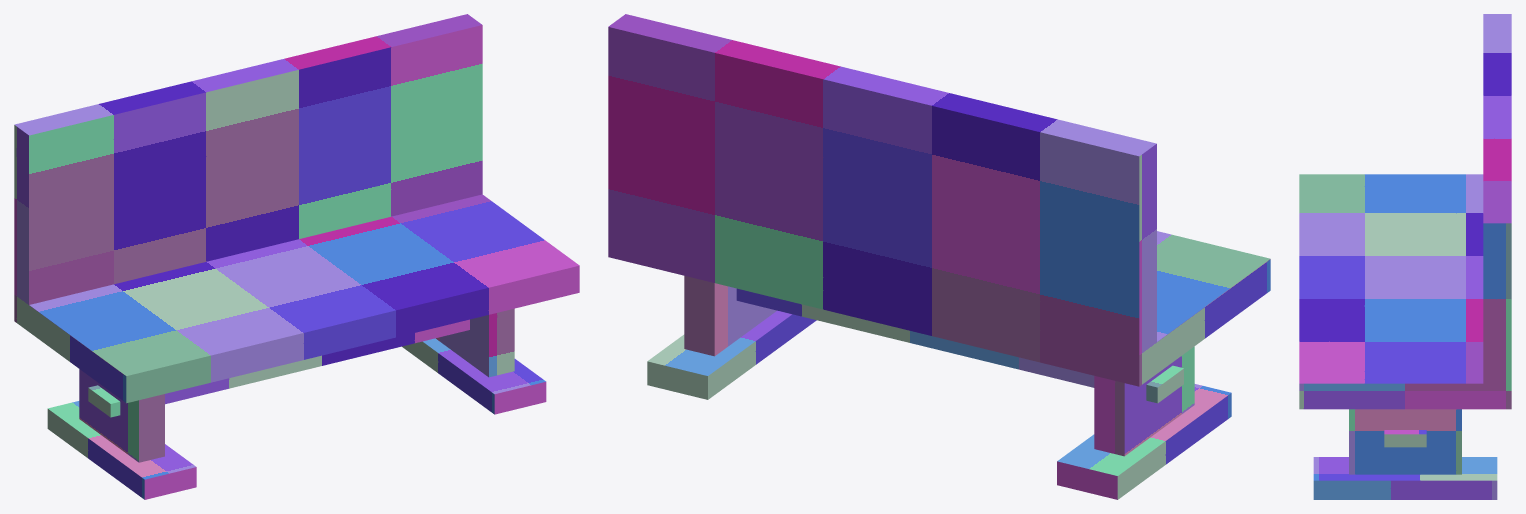
File: rmk_grn_chairL_jwl.dae
3 renders of one model, left to right at view 1: azimuth 30°, elevation 25°; view 2: azimuth 150°, elevation 25°; view 3: azimuth 270°, elevation 25°, orthographic. The views are drawn at different scales.
Parts seen in each view (by area): view 1: rmk_grn_chairL_jwl; view 2: rmk_grn_chairL_jwl; view 3: rmk_grn_chairL_jwl.
Part boxes in pixels (box(x1,y1,x2,y2)): rmk_grn_chairL_jwl: box(14, 14, 579, 499); rmk_grn_chairL_jwl: box(608, 14, 1270, 499); rmk_grn_chairL_jwl: box(1299, 14, 1511, 499).
Size of the model in its own units: 56 by 36 by 24.
Materials: 1 (1 with a texture image).
